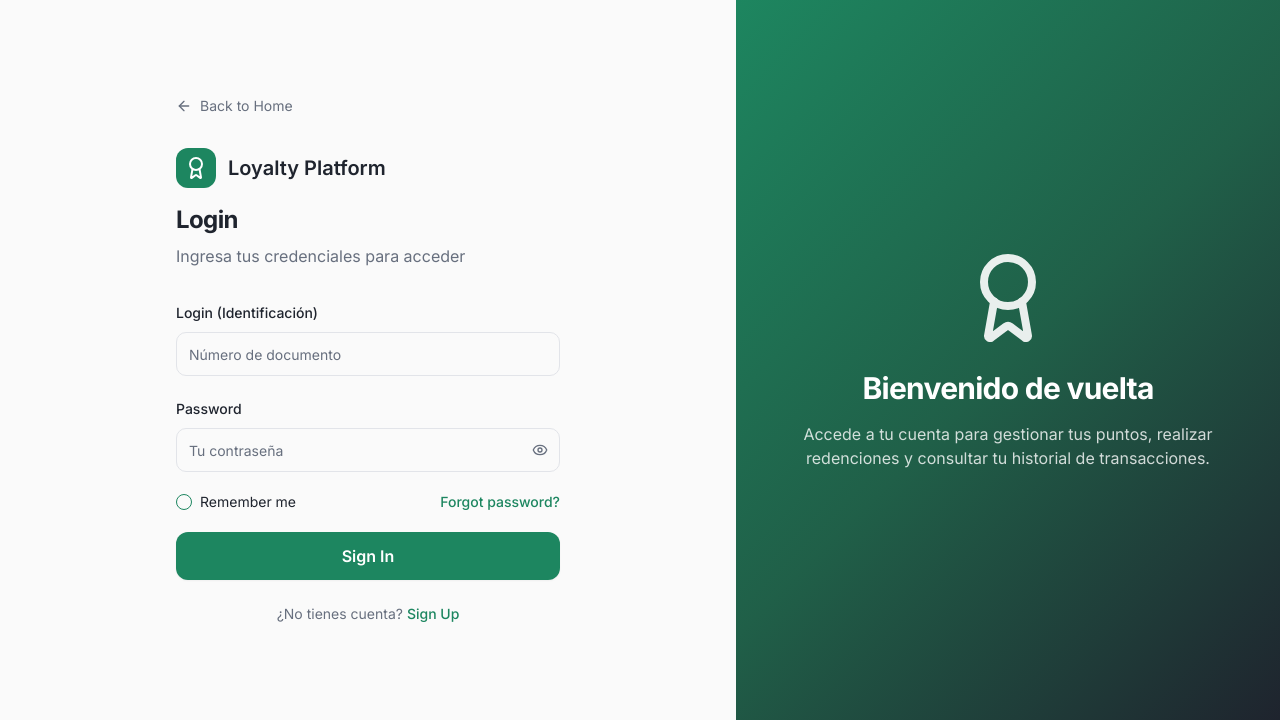
Test: Login Page › shows validation error (400)
Type "user" into the field with placeholder "Número de documento". click: (368, 354)
box: [176,332,560,376]
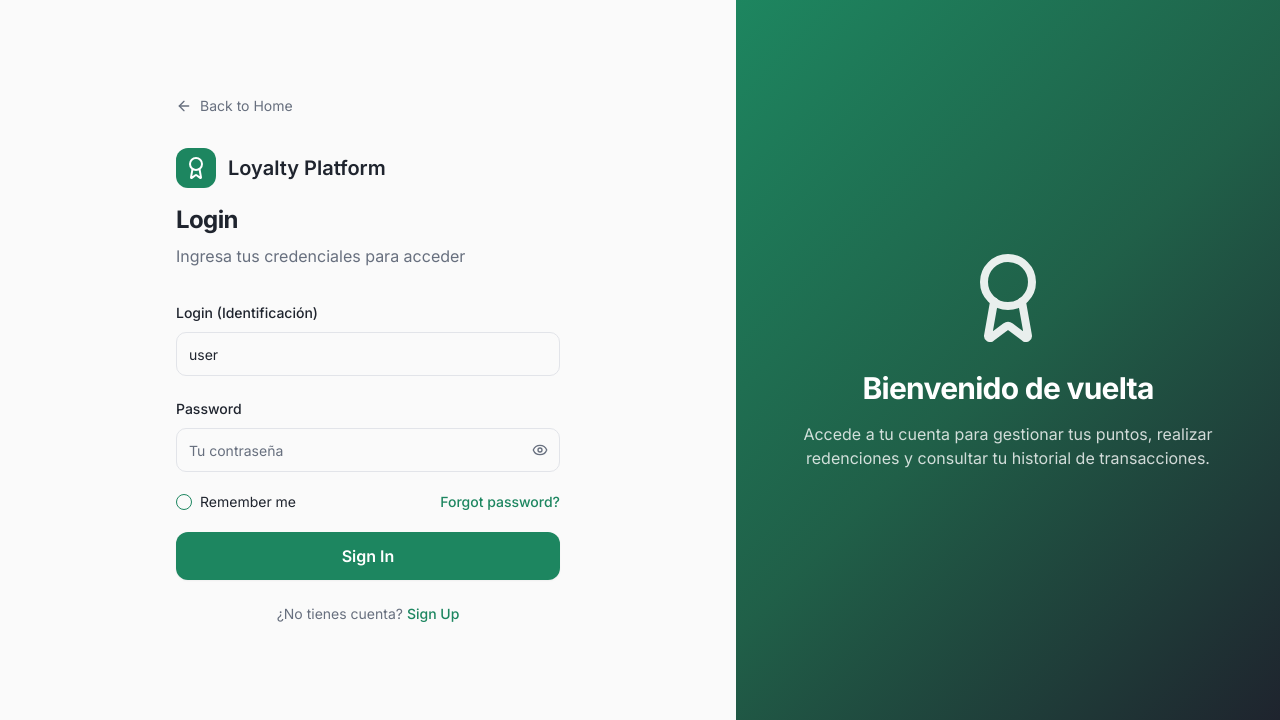
Type "wrongpass" into the password field with placeholder "Tu contraseña". click: (368, 450)
box: [176,428,560,472]
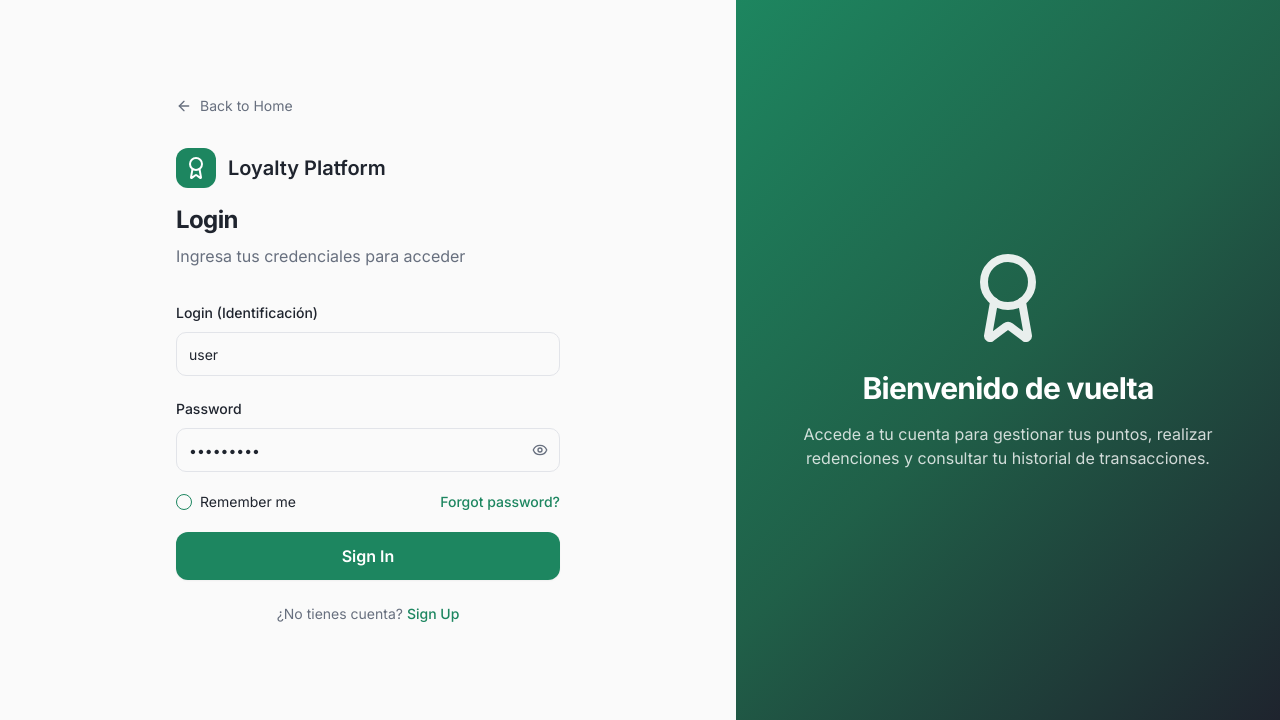
Click the button "Sign In". click: (368, 556)
box: [176,532,560,580]
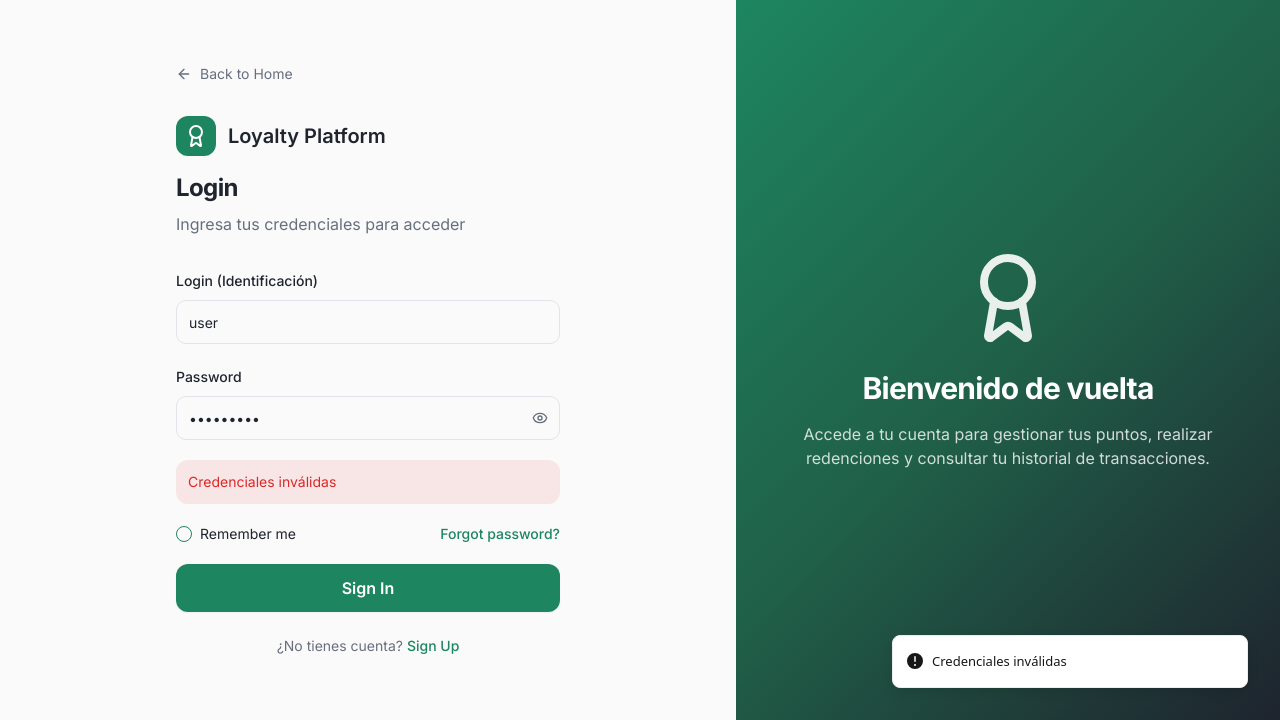
Check: the text "Credenciales inválidas" below "Login (Identificación)" is shown, box [188,473,336,490]
